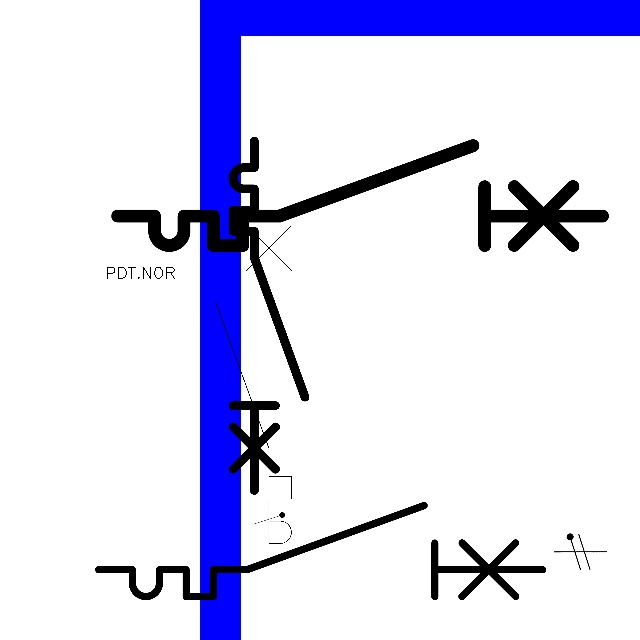interruptor_termomagnetico: (105, 133, 614, 258), (87, 494, 554, 608), (206, 194, 301, 581), (224, 132, 314, 500)
